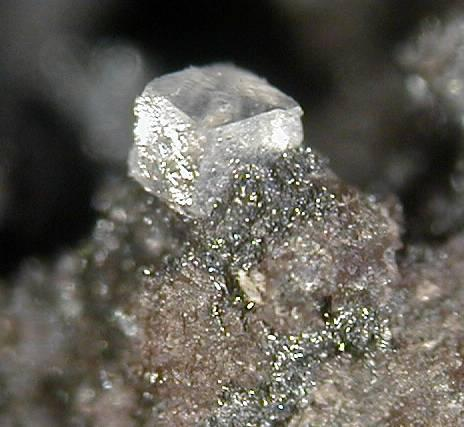calcite: (130, 64, 304, 216)
